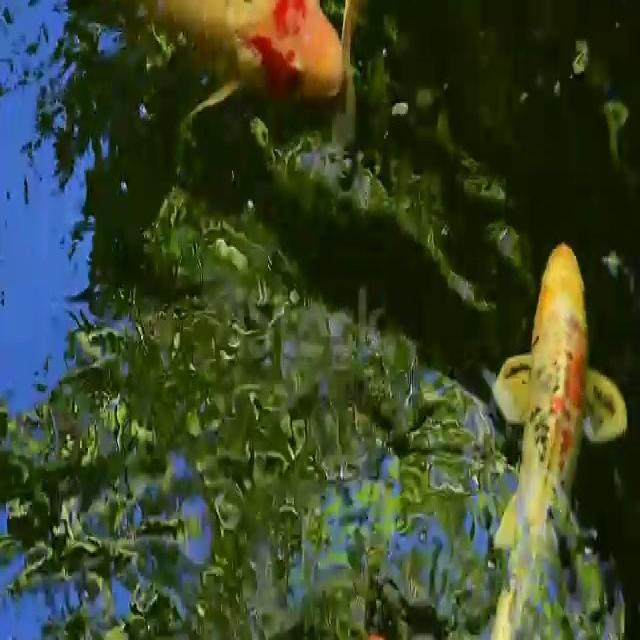fish: (483, 225, 626, 640), (128, 0, 338, 119)
